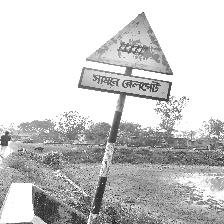Rail-crossing: (80, 12, 174, 104)
